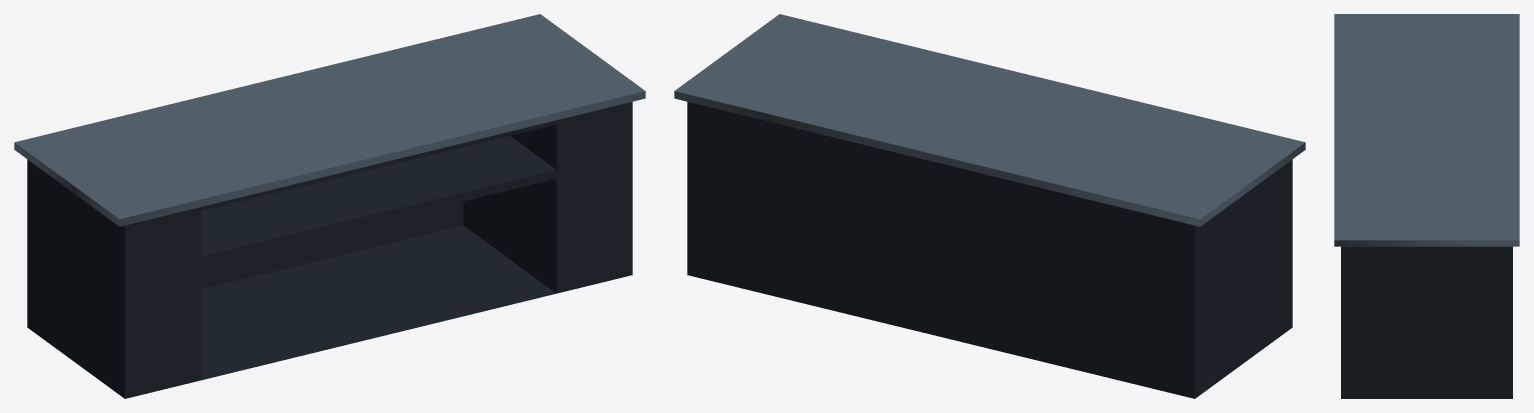
File: wide_drawer_base.fbx
The picture shows the model from 3 angles, left to right: view 1: azimuth 30°, elevation 25°; view 2: azimuth 150°, elevation 25°; view 3: azimuth 270°, elevation 25°; orthographic projection. The views are drawn at different scales.
Parts seen in each view (by area): view 1: drawer_wide; view 2: drawer_wide; view 3: drawer_wide.
Boxes of the visible parts, x1,y1,x2,y2 form: drawer_wide: (14,14,645,398); drawer_wide: (674,14,1305,398); drawer_wide: (1334,14,1519,398).
Bounding box in the file's own units: 311 × 104 × 108.
